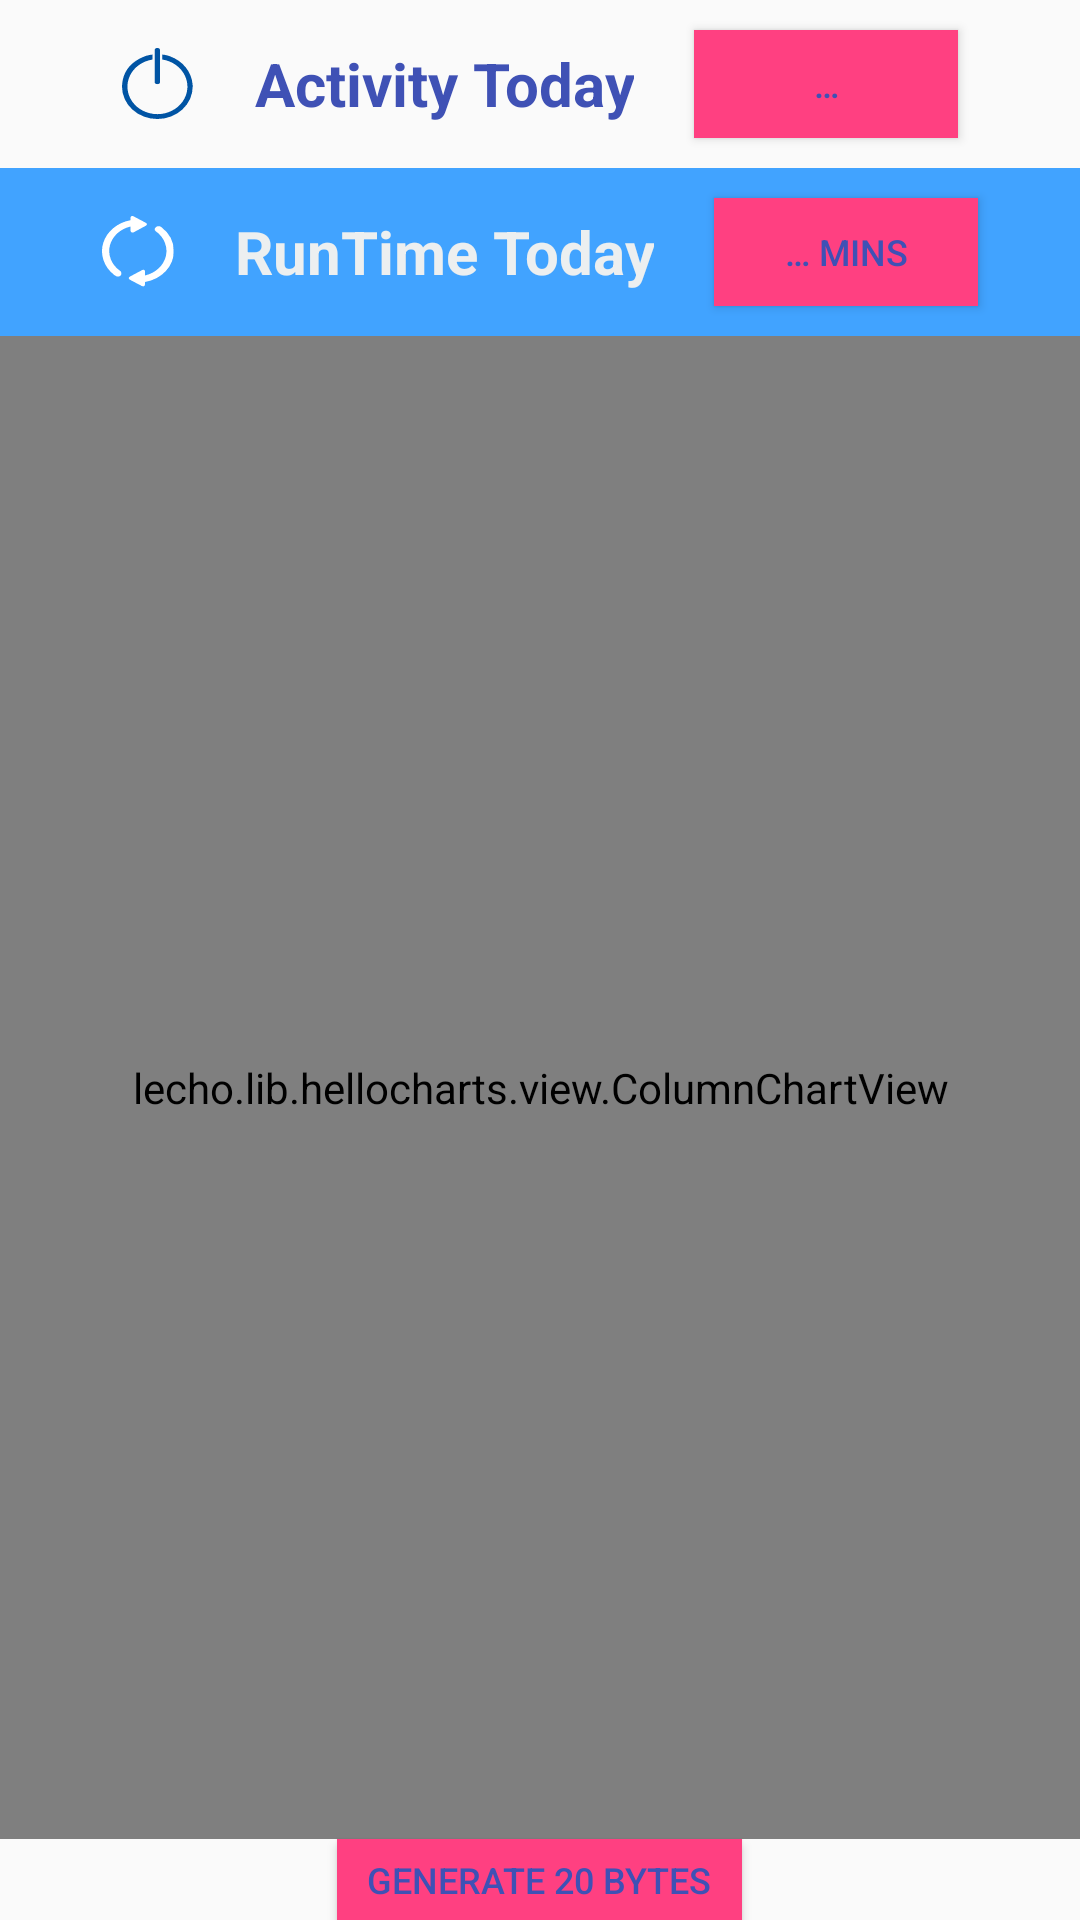

Icons on this 1080x1920 Android screen, each with its box as (x1, y1, x2, y2):
activness: (122, 48, 193, 119)
